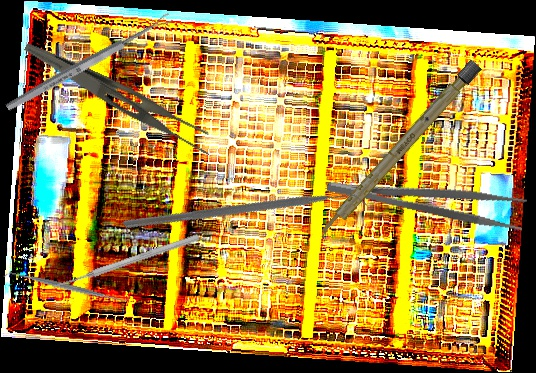Chopper: (122, 96, 371, 336)
Dressing Forceps: (14, 41, 221, 159), (325, 160, 528, 234)
Pusher: (50, 232, 201, 292)
Scalpel Handle: (315, 59, 483, 242)
Spatula Surgical: (2, 264, 131, 310)
Surgical Spoon: (4, 11, 174, 114)
